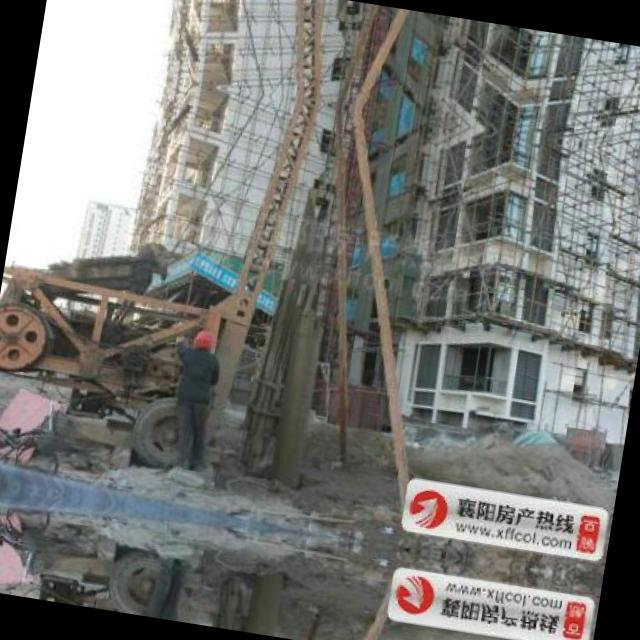helmet: (188, 326, 215, 354)
